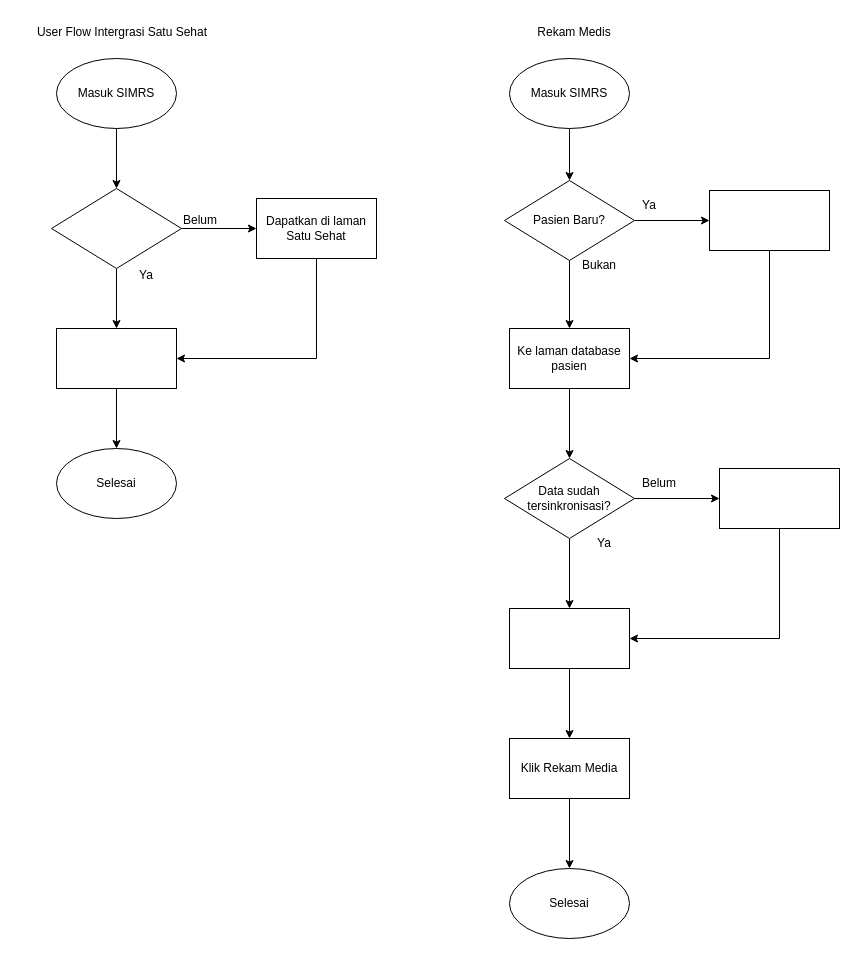
The diagram is 857 pixels wide and 956 high, and some of its shapes have lost their labels. The shapes that lost their labels are listed below. From the top down, each one's centre as x and y in pixels, then its label:
(x=116, y=228): Sudah punya kode akses?
(x=769, y=220): Isi Data Pasien
(x=116, y=358): Masukkan kode akses
(x=779, y=498): Klik sinkronisasi Satu Sehat
(x=569, y=638): Klik Detail Pasien
